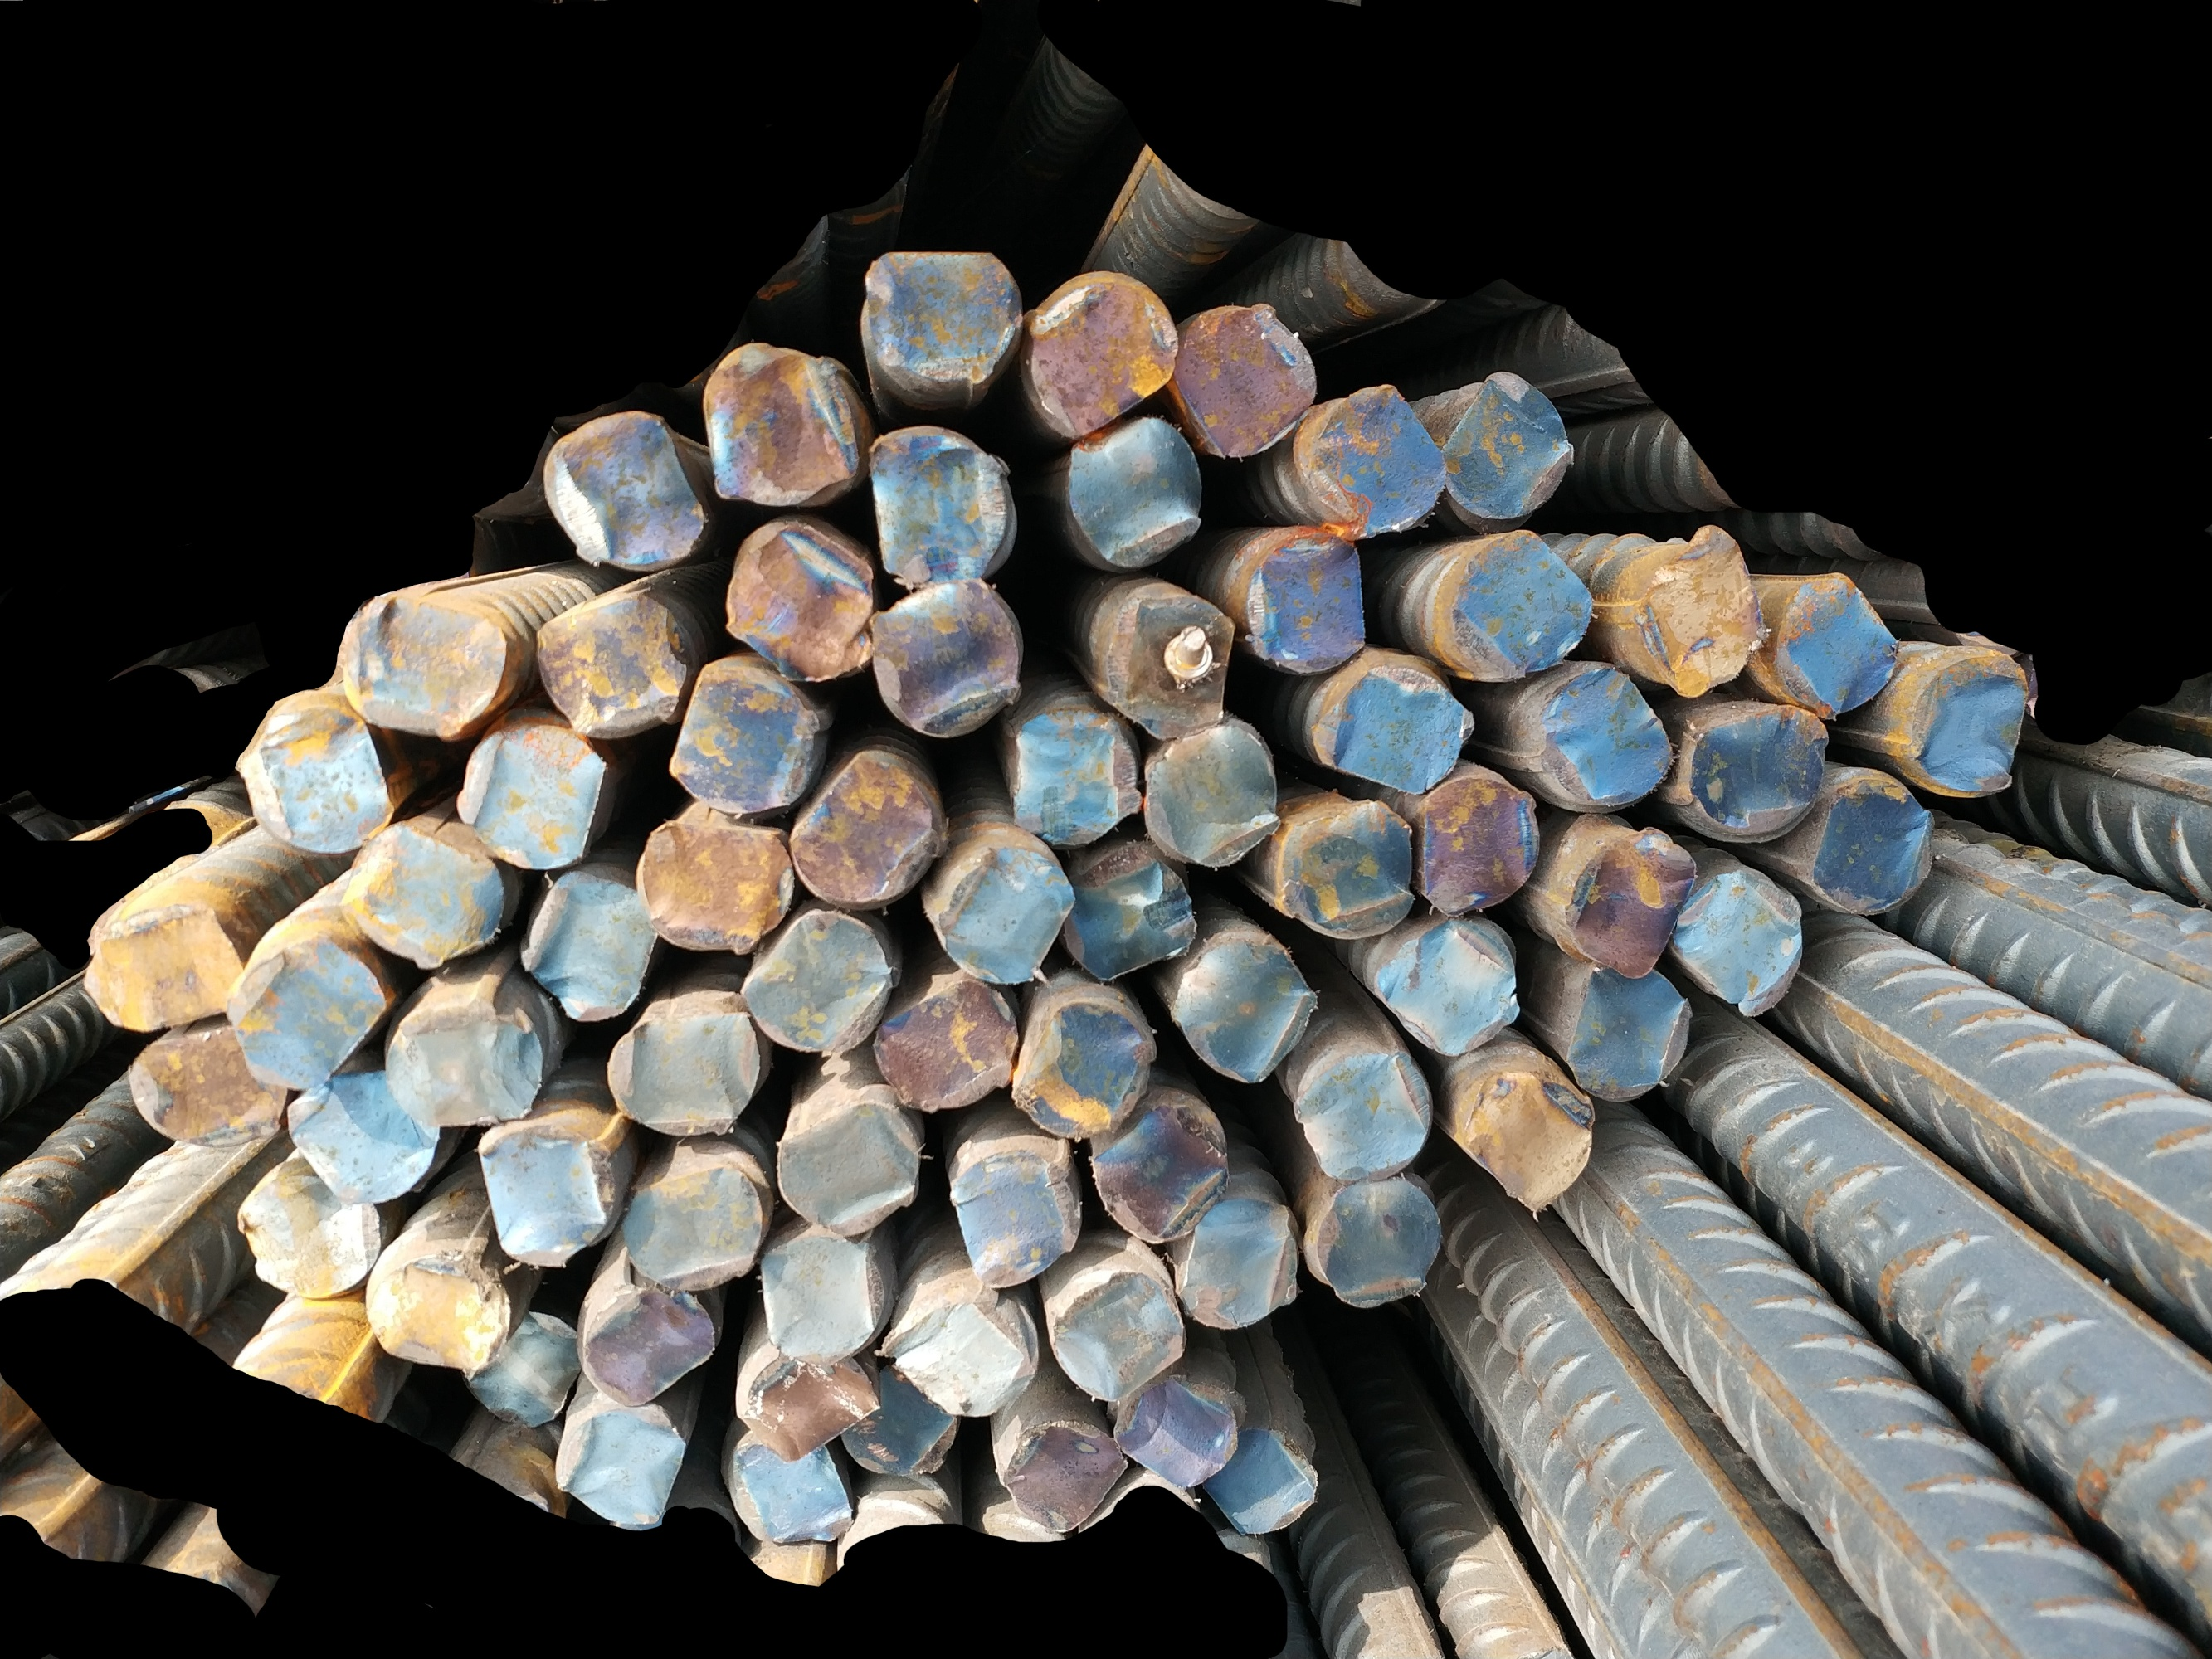rebar: (1156, 295, 1328, 467), (697, 340, 856, 516), (1016, 272, 1182, 439), (336, 586, 507, 746), (540, 411, 711, 570), (865, 575, 1023, 746), (237, 692, 397, 859), (781, 746, 947, 906), (220, 938, 390, 1093), (858, 416, 1009, 589), (858, 247, 1027, 399), (657, 660, 821, 812), (1625, 530, 1768, 702), (1438, 532, 1598, 683), (1168, 934, 1320, 1094), (453, 720, 605, 877), (1135, 714, 1285, 873), (519, 866, 664, 1030), (82, 904, 260, 1037), (1461, 1066, 1614, 1220), (633, 817, 791, 965), (532, 592, 689, 741), (722, 532, 879, 680), (1433, 368, 1578, 528), (1062, 418, 1208, 575), (274, 1080, 450, 1209), (1290, 396, 1447, 540), (614, 1159, 772, 1302), (601, 999, 760, 1140), (228, 1161, 382, 1305), (1673, 866, 1813, 1025), (469, 1124, 615, 1274), (1370, 913, 1522, 1058), (1037, 1270, 1189, 1415), (1009, 1000, 1159, 1145), (350, 836, 511, 971), (1527, 664, 1675, 809), (877, 1290, 1041, 1420), (1558, 953, 1698, 1107), (383, 1004, 549, 1131), (352, 1255, 518, 1382), (1084, 1103, 1227, 1249), (1285, 1047, 1440, 1182), (1304, 1180, 1450, 1321), (748, 917, 896, 1056), (1004, 709, 1149, 850), (873, 971, 1018, 1112), (950, 1145, 1089, 1291), (1096, 591, 1234, 737), (769, 1105, 922, 1236), (124, 1025, 293, 1143), (758, 1227, 894, 1373), (1245, 525, 1375, 676), (1771, 568, 1902, 720), (547, 1399, 690, 1537), (938, 842, 1074, 986), (1900, 647, 2031, 795), (1567, 836, 1703, 978), (1414, 774, 1544, 918), (1327, 667, 1475, 793), (1691, 702, 1830, 835), (580, 1291, 723, 1413), (1065, 847, 1198, 978), (457, 1298, 584, 1434), (1290, 807, 1419, 939), (722, 1434, 865, 1551), (741, 1349, 884, 1460), (1813, 781, 1935, 910), (1177, 1202, 1299, 1331), (1112, 1375, 1243, 1495), (1196, 1417, 1323, 1539), (1001, 1422, 1128, 1539), (837, 1373, 966, 1481)
